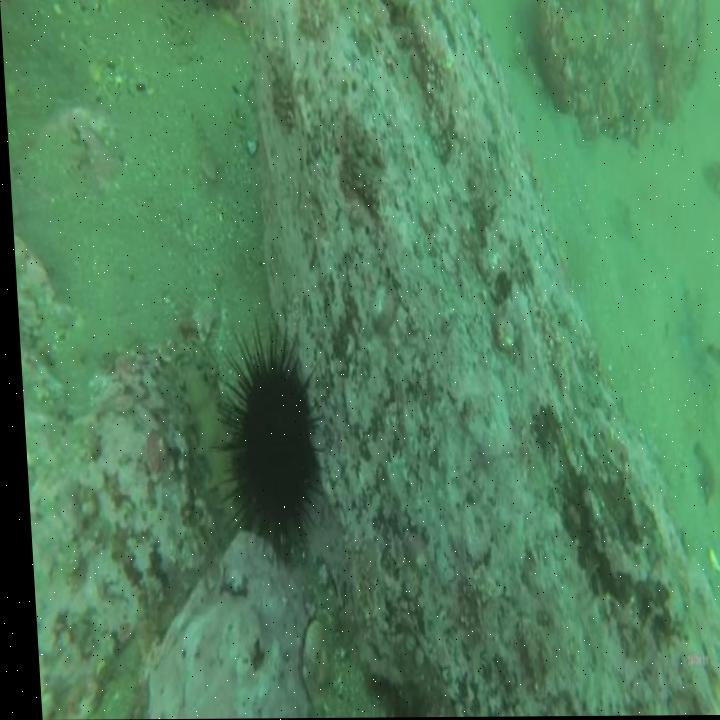echinus: (211, 338, 320, 573)
holothurian: (171, 346, 237, 536)
